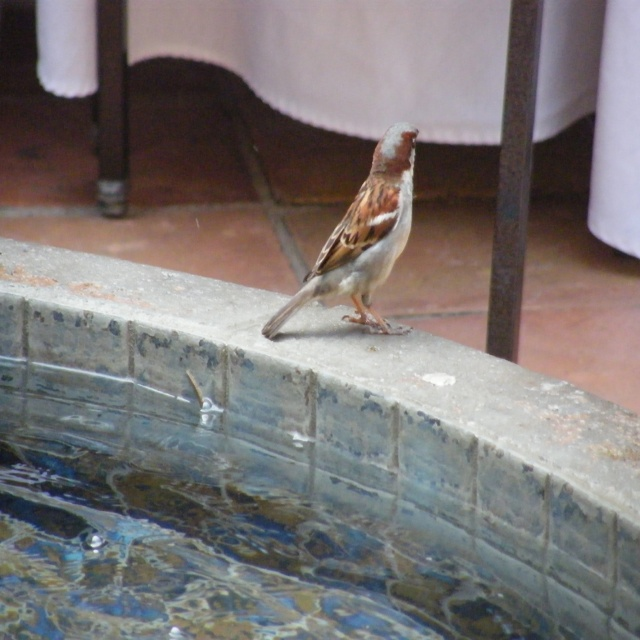Sparrow: (267, 125, 426, 334)
